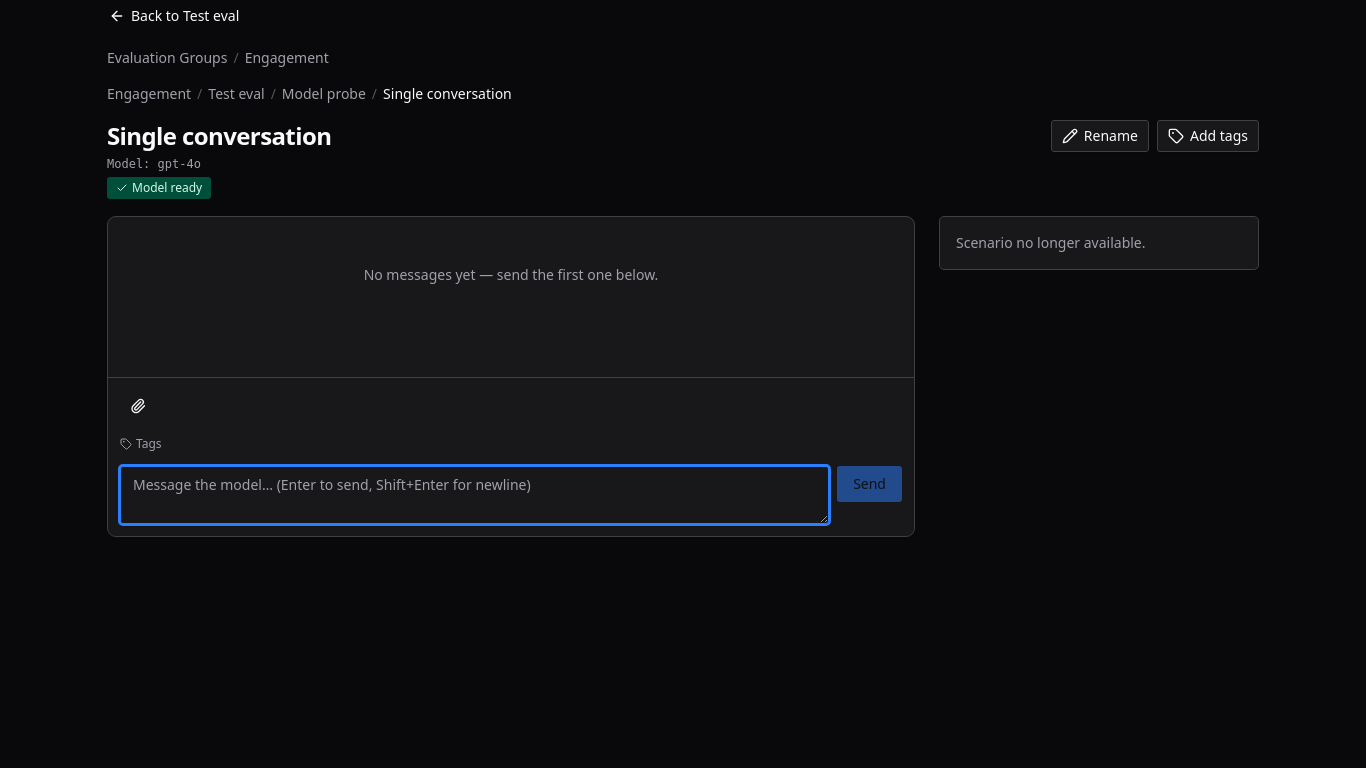
Scenario: ConversationDetailPage — tags › names the colliding key and sends nothing when two rows share one
Check: the heading "Single conversation" is shown, box top-left (107, 120), bottom-right (331, 152)
Click the button "Add tags": click(1208, 136) top-left (1157, 120), bottom-right (1259, 152)
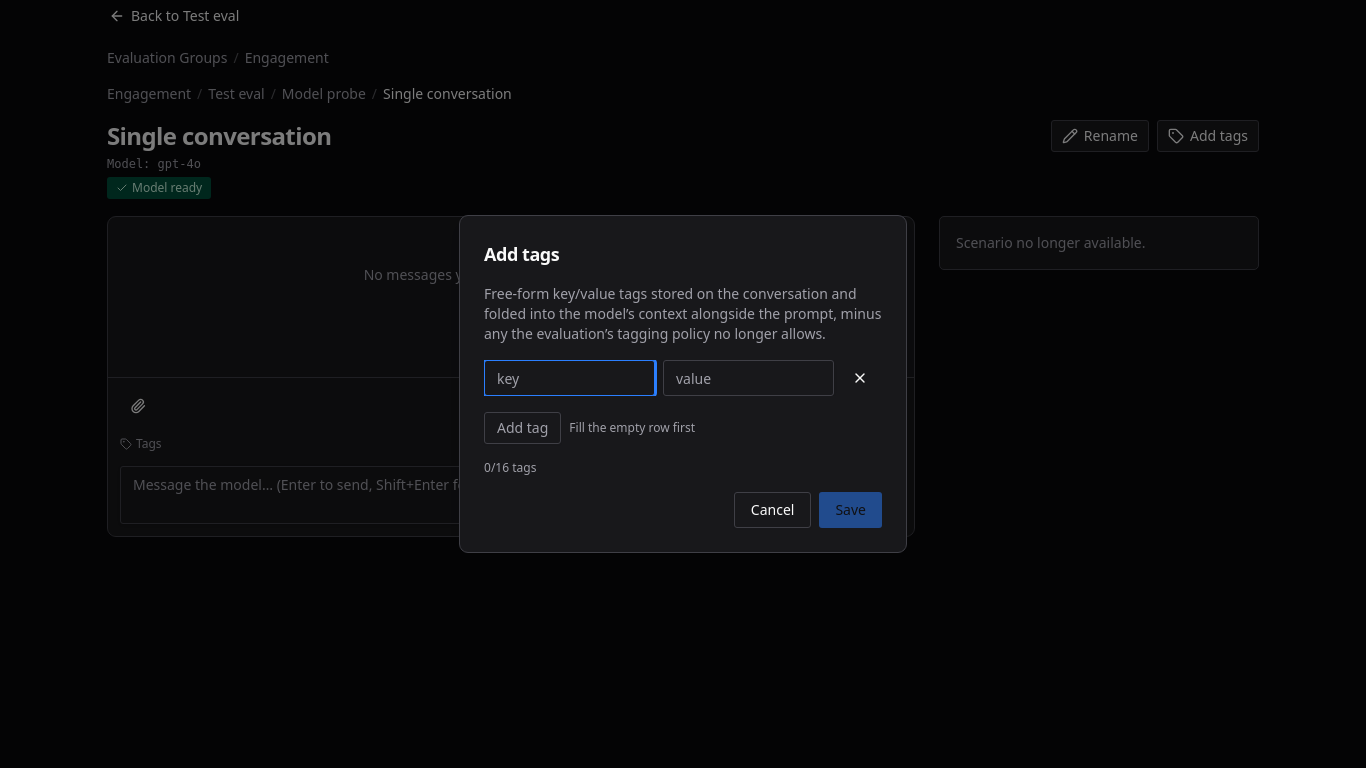
In the field named "Tag 1 key": (570, 378) top-left (484, 360), bottom-right (655, 396), type "env"
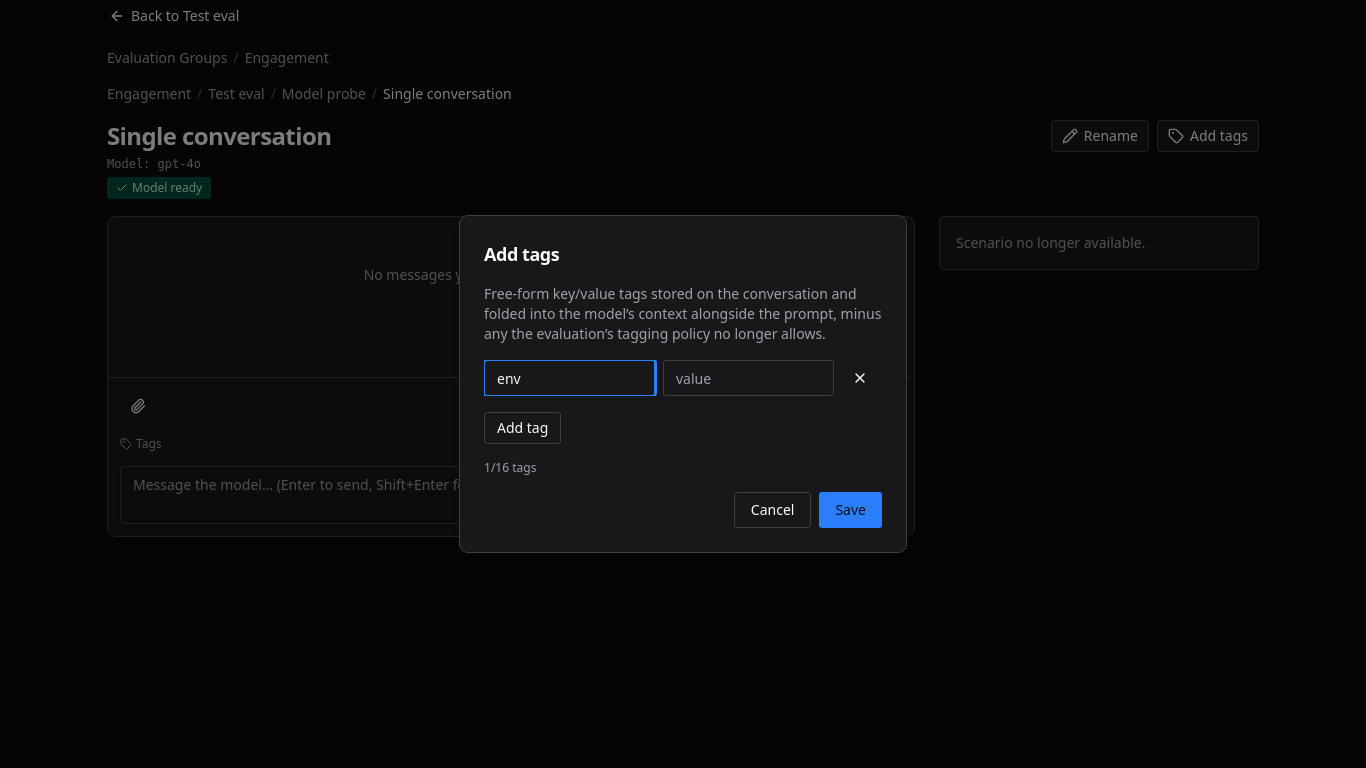
In the field named "Tag 1 value": (748, 378) top-left (663, 360), bottom-right (834, 396), type "prod"
Click the button "Add tag": click(523, 428) top-left (484, 412), bottom-right (561, 444)
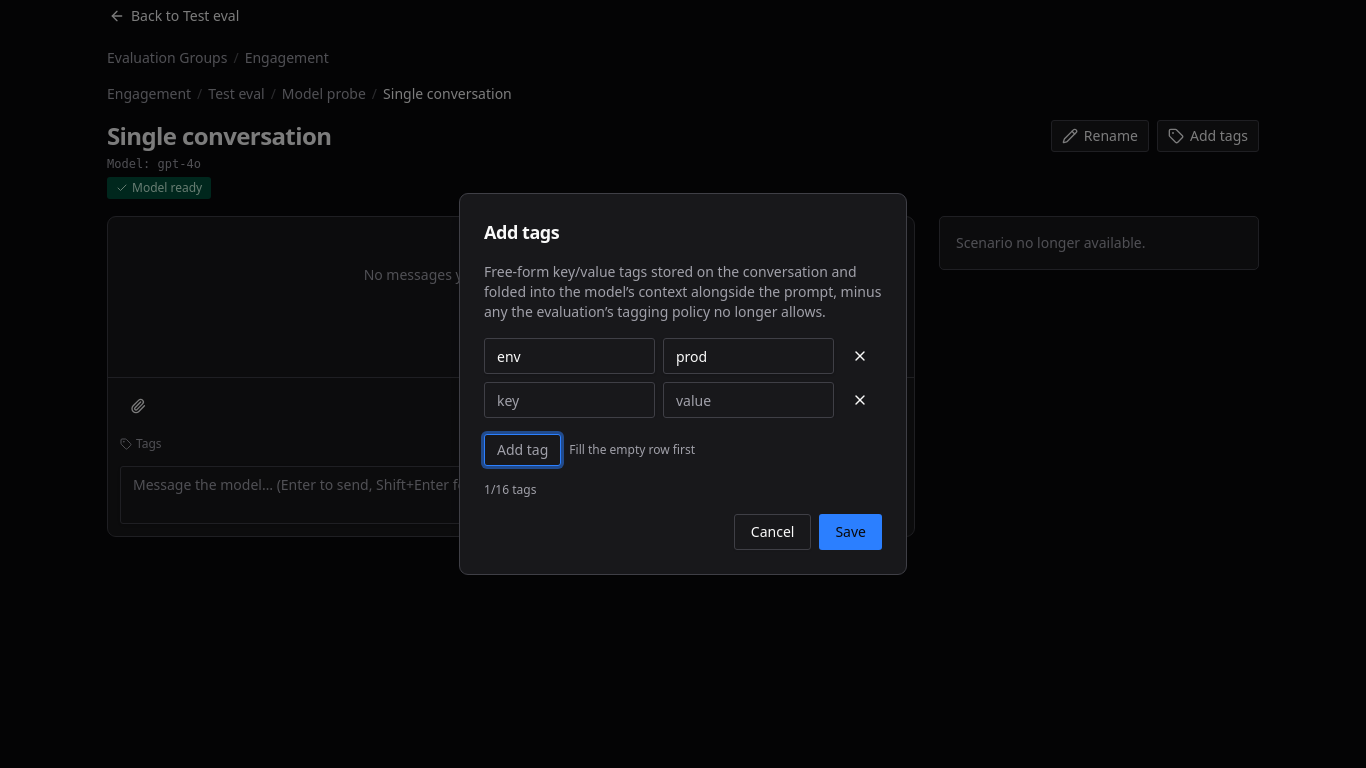
In the field named "Tag 2 key": (570, 400) top-left (484, 382), bottom-right (655, 418), type " env "
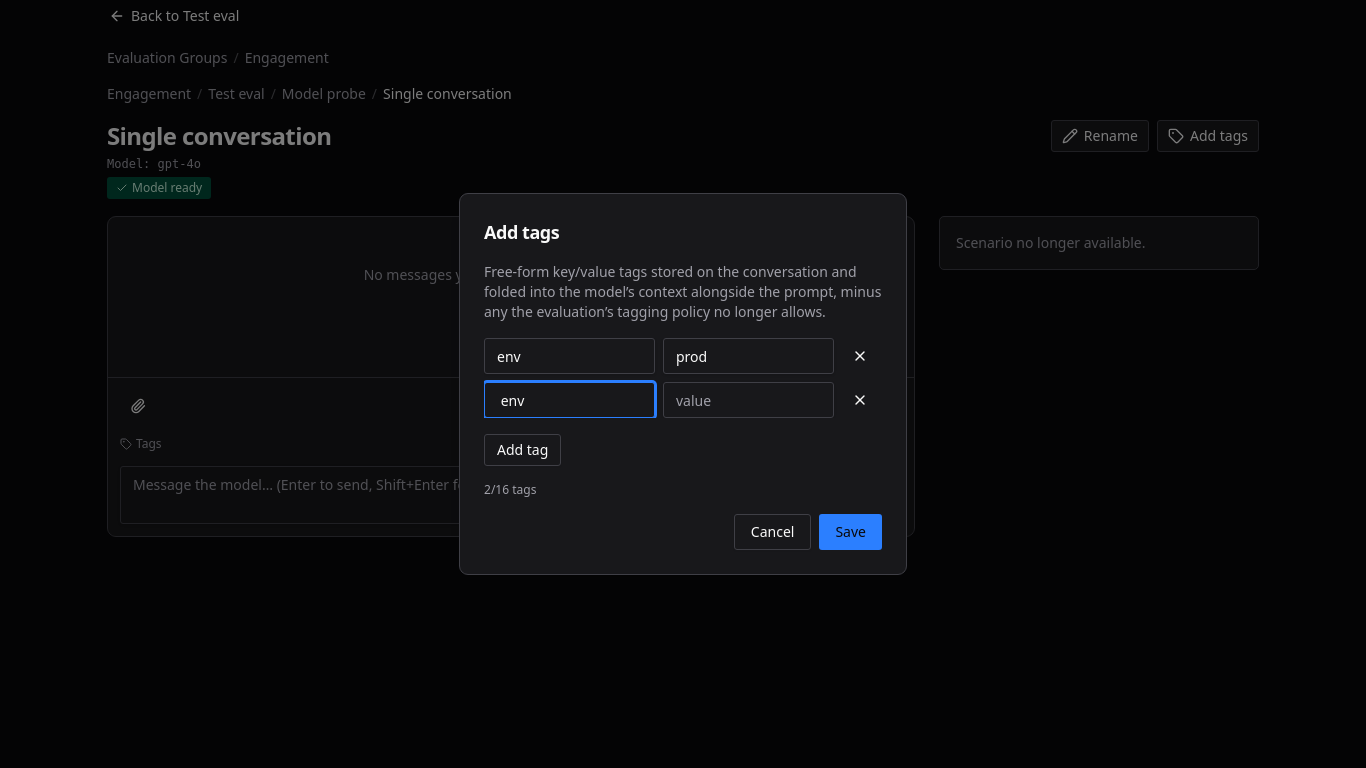
In the field named "Tag 2 value": (748, 400) top-left (663, 382), bottom-right (834, 418), type "staging"
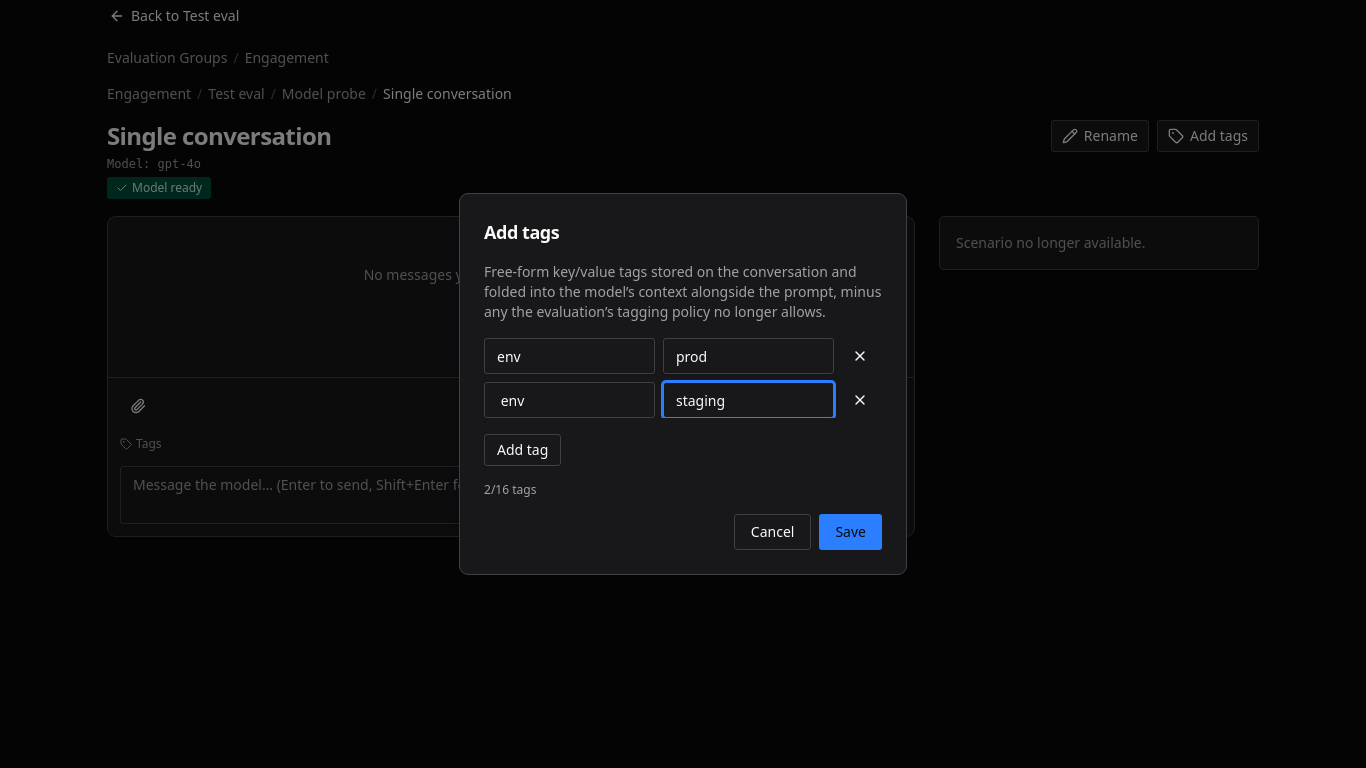
Click the button "Save": click(851, 532) top-left (819, 514), bottom-right (882, 550)
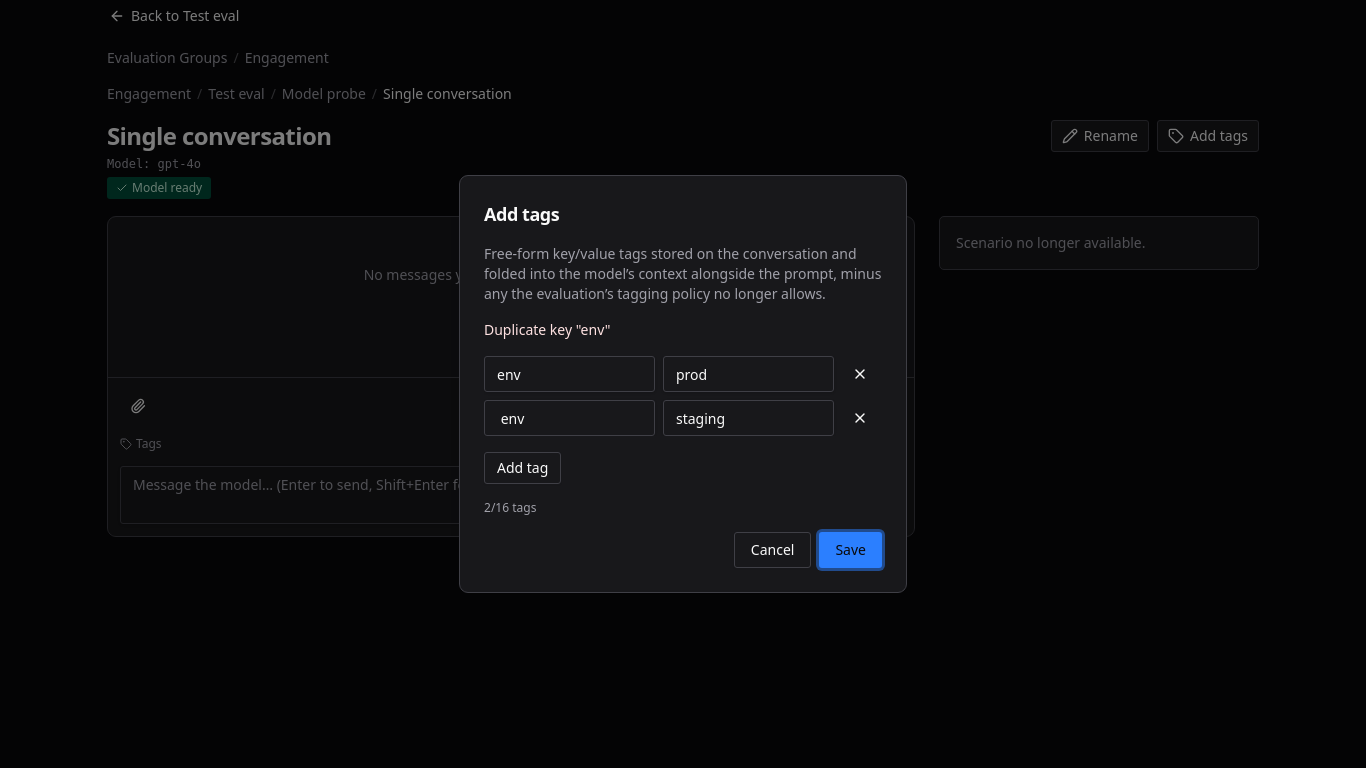
Check: the text "Duplicate key \"env\"" is shown, box top-left (484, 320), bottom-right (610, 339)
